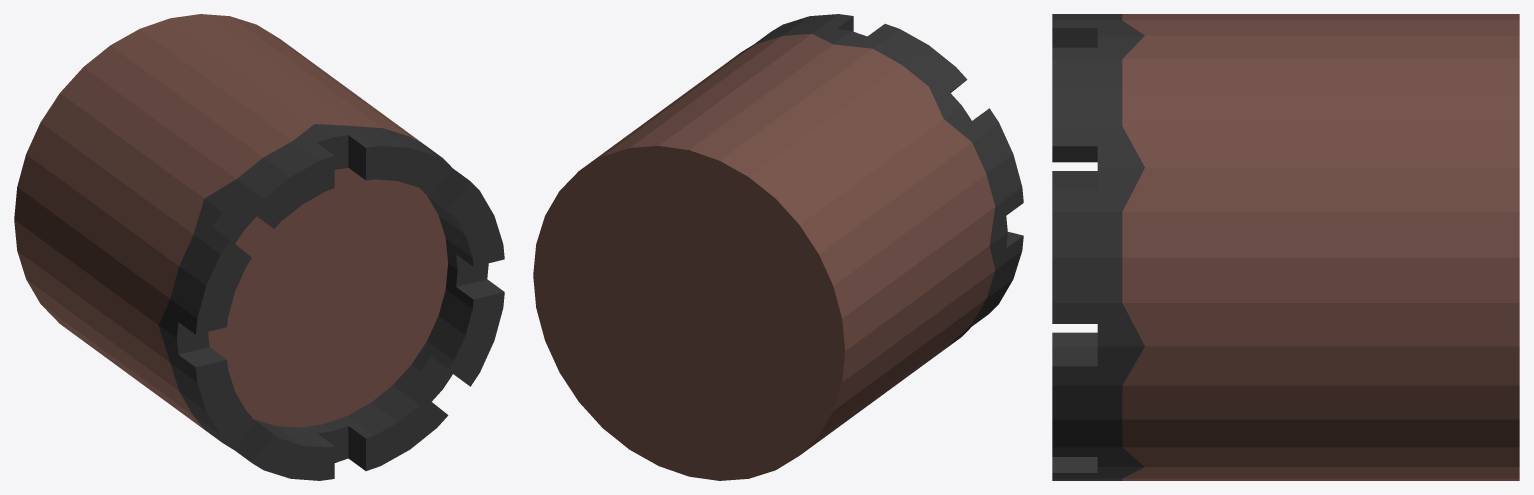
Rendered from lighthouse.gltf.
3 views of the same model, side by side, from view 1: azimuth 30°, elevation 25°; view 2: azimuth 150°, elevation 25°; view 3: azimuth 270°, elevation 25° (orthographic). The views are drawn at different scales.
Visible parts, largest first — view 1: Cylinder; view 2: Cylinder; view 3: Cylinder.
Boxes of the visible parts, <box> form: Cylinder: <box>14,14,504,480</box>; Cylinder: <box>533,14,1023,480</box>; Cylinder: <box>1052,14,1519,480</box>.
Size of the model in its own units: 2 by 2 by 2.
